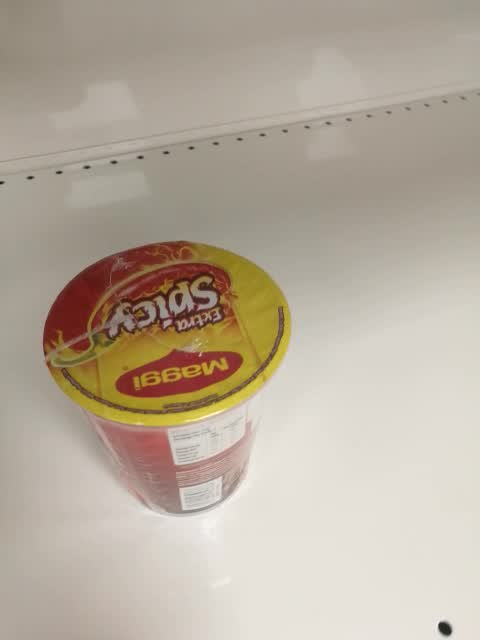maggi: (41, 240, 292, 519)
